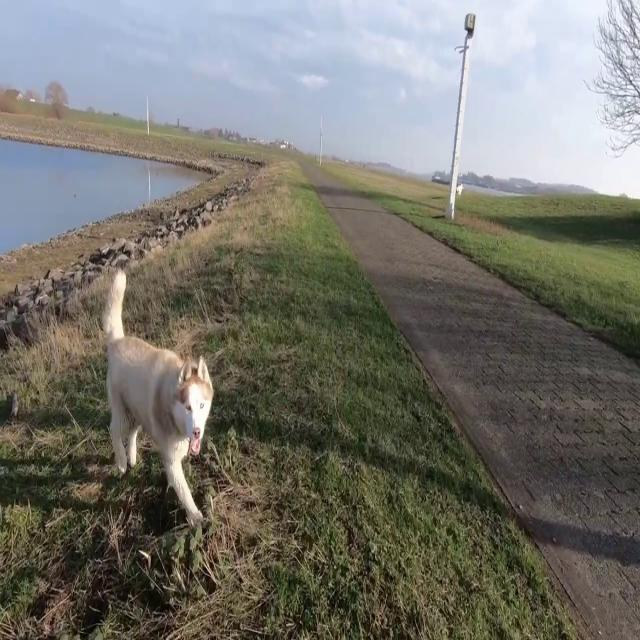Dog: (103, 271, 214, 522)
